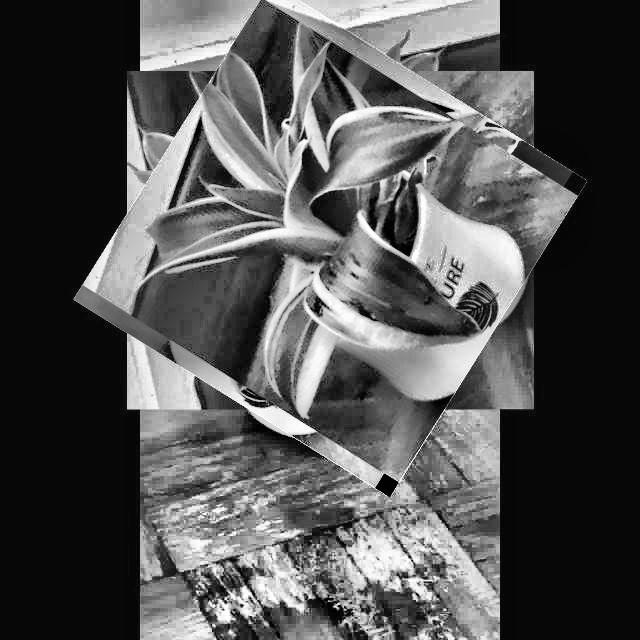plants: (109, 19, 552, 462)
